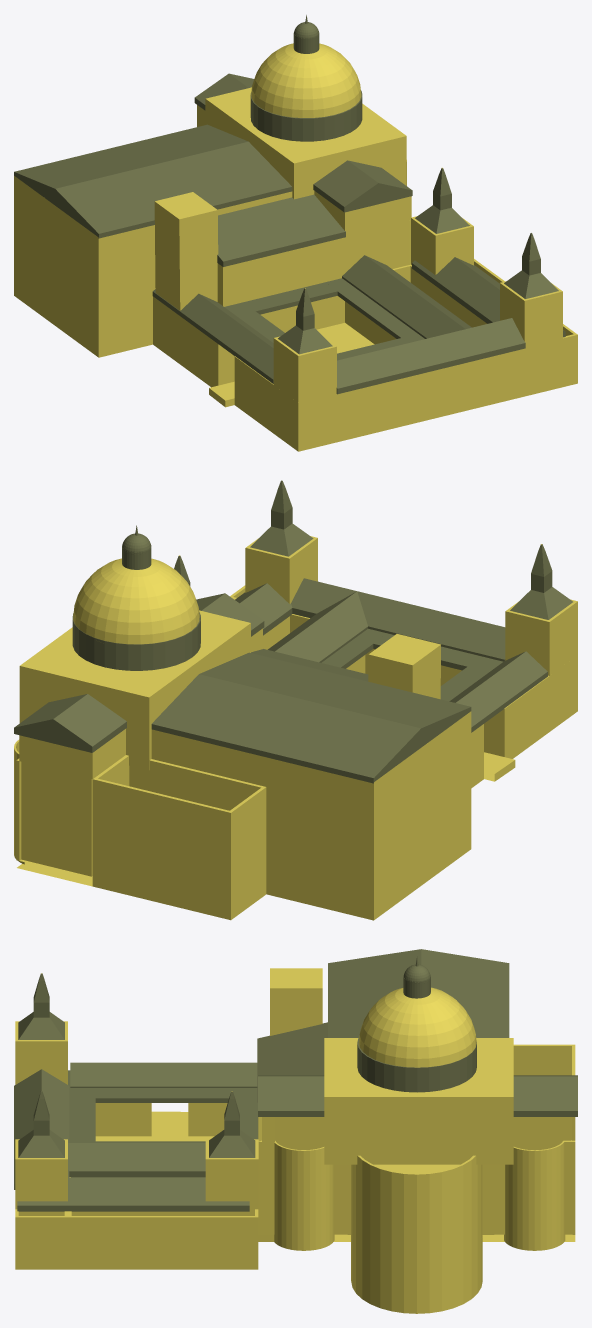
File: church.fbx
3 renders of one model, top to bottom at view 1: azimuth 30°, elevation 25°; view 2: azimuth 150°, elevation 25°; view 3: azimuth 270°, elevation 25°, orthographic. The views are drawn at different scales.
Visible parts, largest first — view 1: Cono; view 2: Cono; view 3: Cono.
Boxes of the visible parts, left/top/right/bottom form: Cono: left=14, top=15, right=577, bottom=451; Cono: left=14, top=480, right=577, bottom=920; Cono: left=14, top=949, right=577, bottom=1313.
Size of the model in its own units: 10453 by 8422 by 13928.
